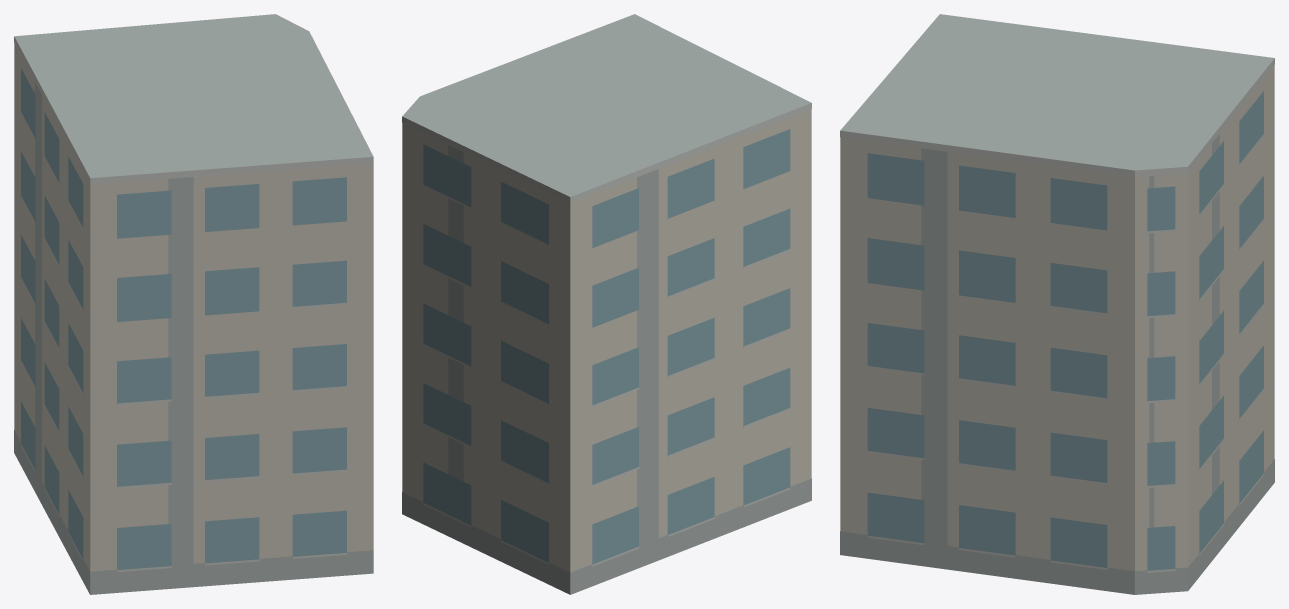
The model's file is survey-upis-32824068.glb.
3 renders of one model, left to right at view 1: azimuth 30°, elevation 25°; view 2: azimuth 150°, elevation 25°; view 3: azimuth 270°, elevation 25°, orthographic. The views are drawn at different scales.
Parts seen in each view (by area): view 1: survey-upis-32824068.tmp; view 2: survey-upis-32824068.tmp; view 3: survey-upis-32824068.tmp.
Part boxes in pixels (left/top/right/bottom): survey-upis-32824068.tmp: left=14, top=14, right=373, bottom=594; survey-upis-32824068.tmp: left=402, top=14, right=811, bottom=594; survey-upis-32824068.tmp: left=840, top=14, right=1274, bottom=594.
Size of the model in its own units: 12.29 by 15.53 by 14.42.
